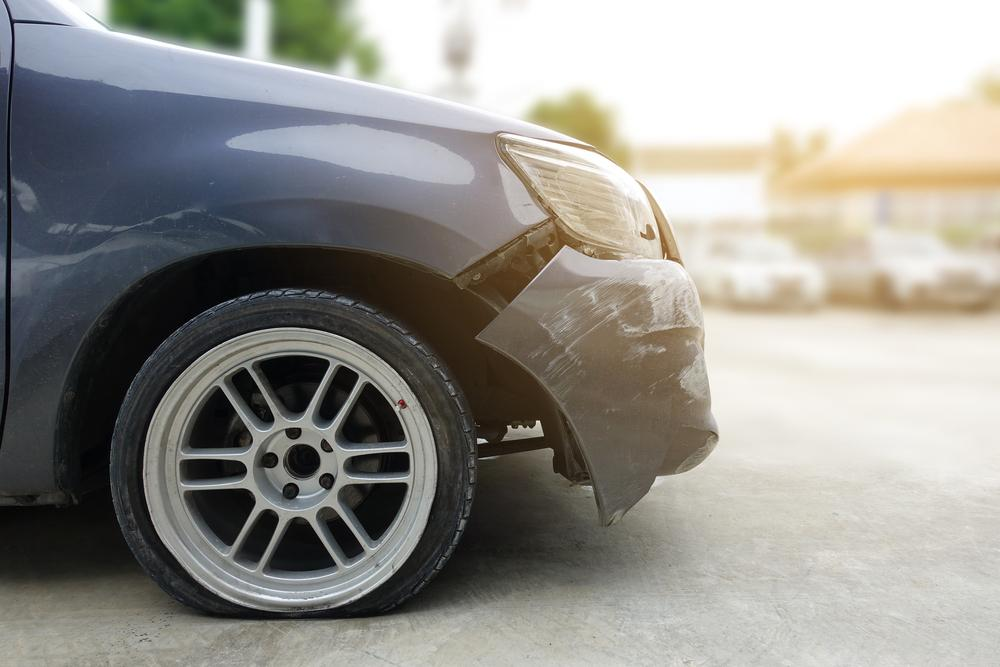lamp broken: (497, 134, 664, 257)
scratch: (520, 260, 712, 419)
tire flat: (112, 286, 477, 621)
